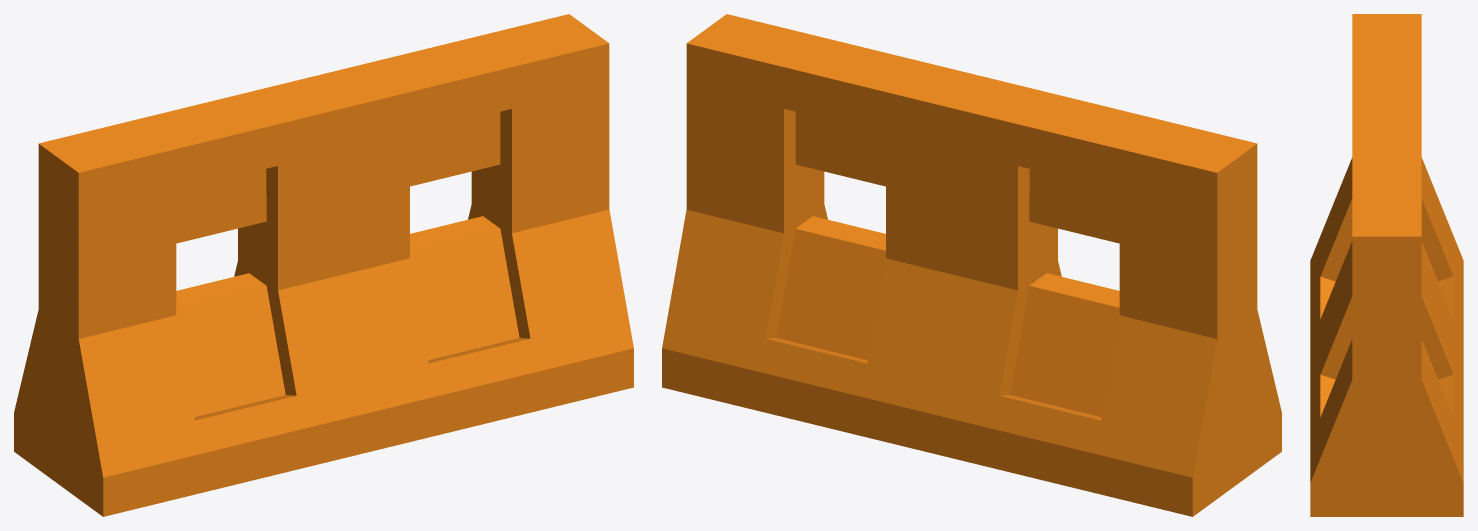
Rendered from Road Barrier_Yellow.fbx.
3 views of the same model, side by side, from view 1: azimuth 30°, elevation 25°; view 2: azimuth 150°, elevation 25°; view 3: azimuth 270°, elevation 25° (orthographic). The views are drawn at different scales.
Parts seen in each view (by area): view 1: Cube; view 2: Cube; view 3: Cube.
Boxes of the visible parts, left/top/right/bottom form: Cube: left=14, top=14, right=633, bottom=516; Cube: left=662, top=14, right=1281, bottom=516; Cube: left=1310, top=14, right=1463, bottom=516.
Size of the model in its own units: 2 by 1.17 by 0.5819.
